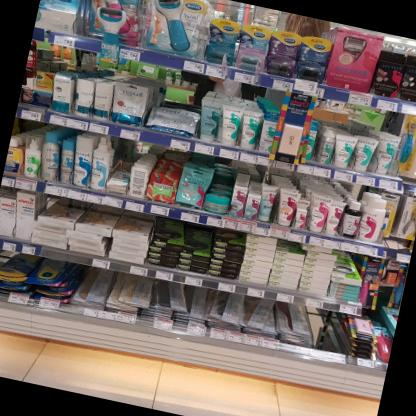empty_space: (320, 326, 343, 357)
